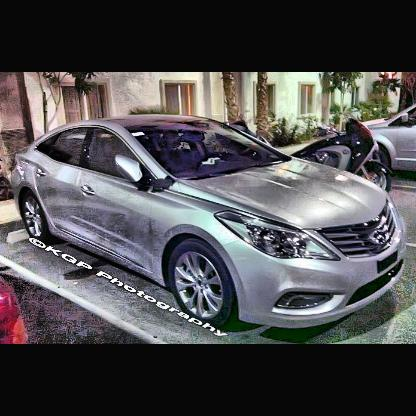Hyundai Azera Sedan 2012: (11, 114, 409, 333)
